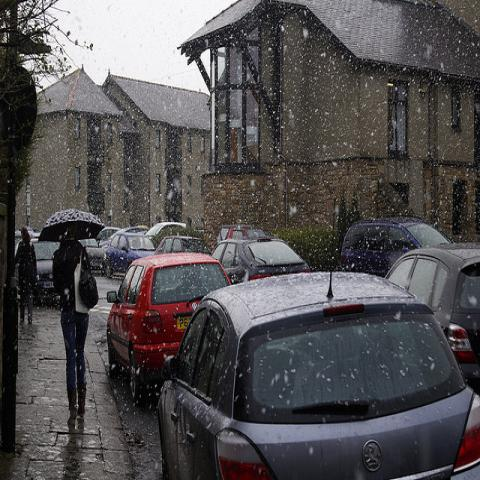car: (156, 268, 479, 473), (106, 251, 232, 403), (383, 241, 479, 397), (340, 219, 448, 277), (209, 234, 311, 286), (15, 238, 60, 309), (106, 233, 155, 278), (155, 234, 212, 257), (144, 222, 189, 250), (78, 238, 107, 275)
